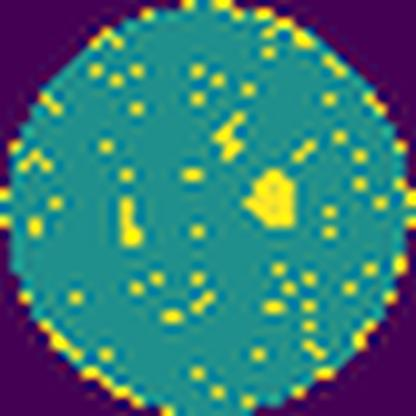Loc: (242, 165, 295, 229), (211, 112, 251, 160), (113, 199, 141, 249)
